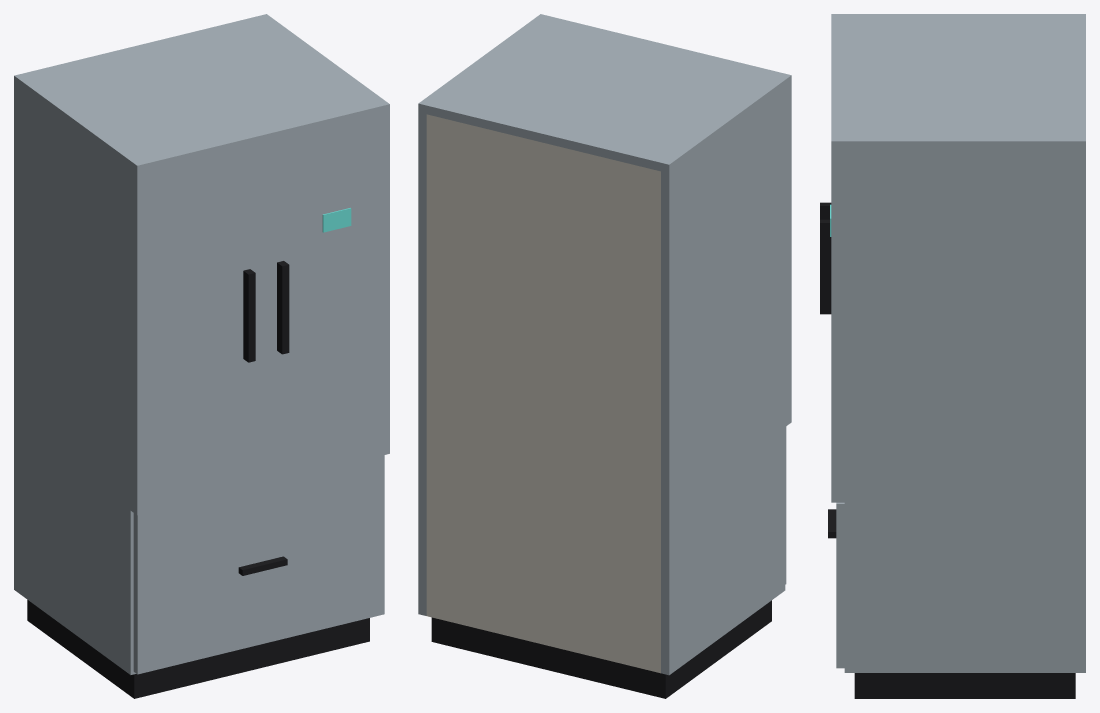
The model's file is GI_Fridge_Modern_01.glb.
The picture shows the model from 3 angles, left to right: view 1: azimuth 30°, elevation 25°; view 2: azimuth 150°, elevation 25°; view 3: azimuth 270°, elevation 25°; orthographic projection. The views are drawn at different scales.
Parts seen in each view (by area): view 1: GI_Fridge_Modern_01, DoorL, DoorR, DrawerFreezer; view 2: GI_Fridge_Modern_01, DoorL, DoorR; view 3: GI_Fridge_Modern_01, DoorR, DrawerFreezer, DoorL.
Part boxes in pixels (x1,y1,x2,y2): GI_Fridge_Modern_01: [14, 14, 382, 698]; DoorL: [130, 130, 263, 515]; DoorR: [257, 99, 389, 484]; DrawerFreezer: [133, 455, 384, 674]; GI_Fridge_Modern_01: [418, 18, 785, 698]; DoorL: [660, 44, 791, 426]; DoorR: [534, 14, 665, 49]; GI_Fridge_Modern_01: [844, 14, 1085, 698]; DoorR: [820, 77, 844, 502]; DrawerFreezer: [828, 502, 844, 668]; DoorL: [820, 14, 844, 219].
Size of the model in its own units: 0.9 by 1.85 by 0.793.
Materials: 2 (2 with a texture image).
